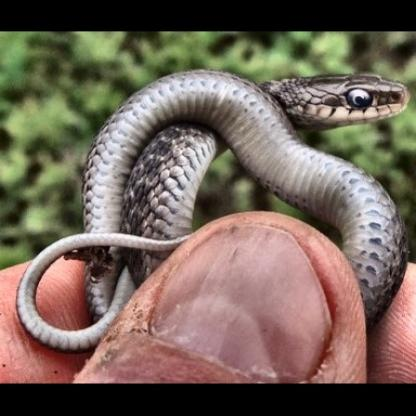Snake: (12, 67, 410, 350)
